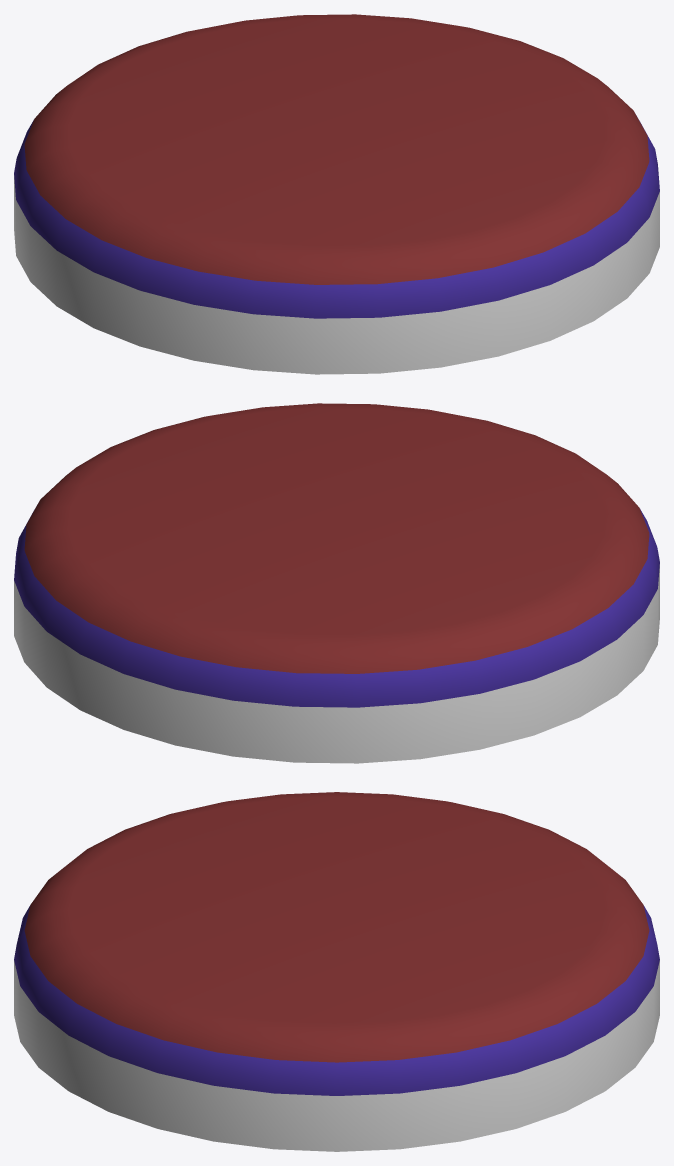
File: CylinderForTile_04.fbx
The picture shows the model from 3 angles, top to bottom: view 1: azimuth 30°, elevation 25°; view 2: azimuth 150°, elevation 25°; view 3: azimuth 270°, elevation 25°; orthographic projection.
Parts seen in each view (by area): view 1: CylinderForTile_02; view 2: CylinderForTile_02; view 3: CylinderForTile_02.
Boxes of the visible parts, x1,y1,x2,y2 form: CylinderForTile_02: (14,14,659,374); CylinderForTile_02: (14,403,659,763); CylinderForTile_02: (14,792,659,1151).
Bounding box in the file's own units: 200 × 35.99 × 200.
